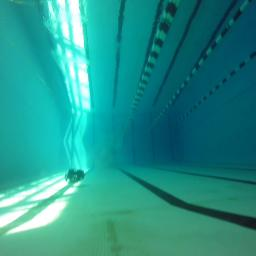Side: (65, 169, 85, 183)
